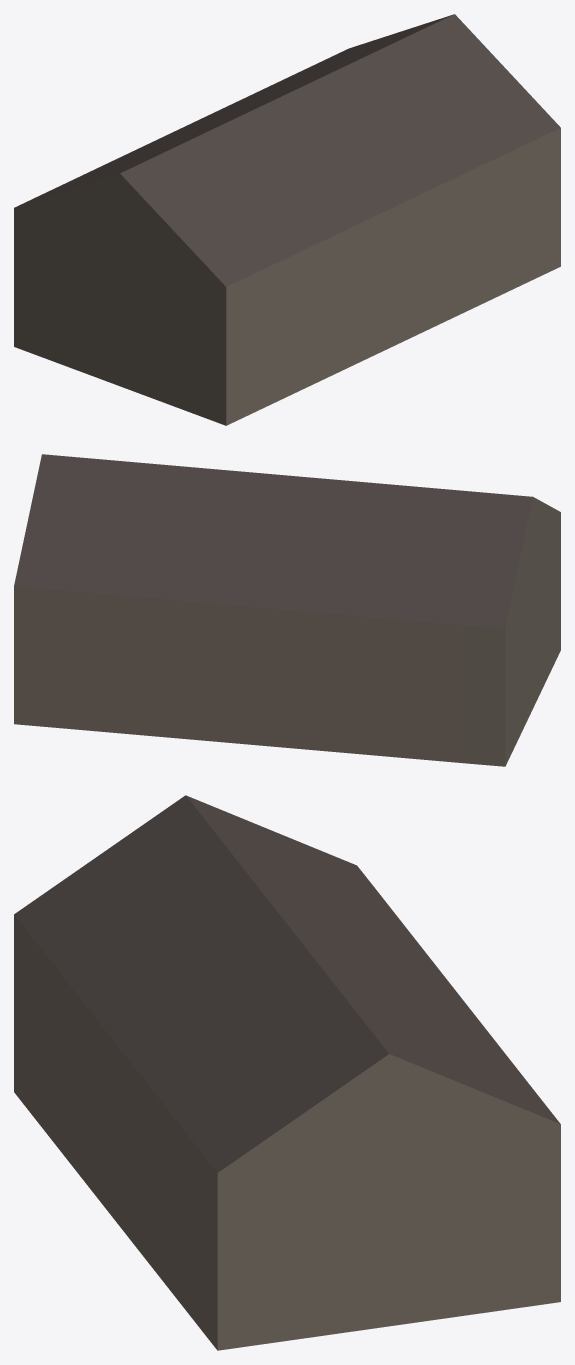
The picture shows the model from 3 angles, top to bottom: view 1: azimuth 30°, elevation 25°; view 2: azimuth 150°, elevation 25°; view 3: azimuth 270°, elevation 25°; orthographic projection. The views are drawn at different scales.
Visible parts, largest first — view 1: HP-w1198842219; view 2: HP-w1198842219; view 3: HP-w1198842219.
Boxes of the visible parts, <box> form: HP-w1198842219: <box>14,14,560,425</box>; HP-w1198842219: <box>14,454,560,766</box>; HP-w1198842219: <box>14,795,560,1350</box>.
Bounding box in the file's own units: 22.27 × 9.2 × 16.74.
